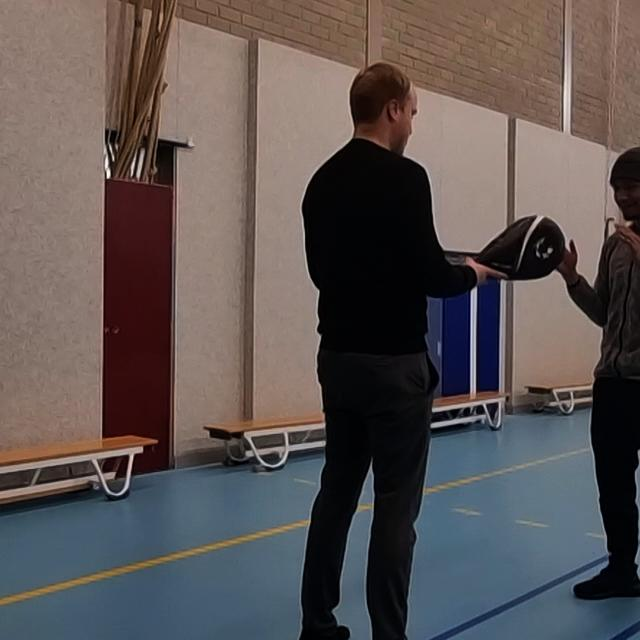paddle: (464, 215, 570, 279)
